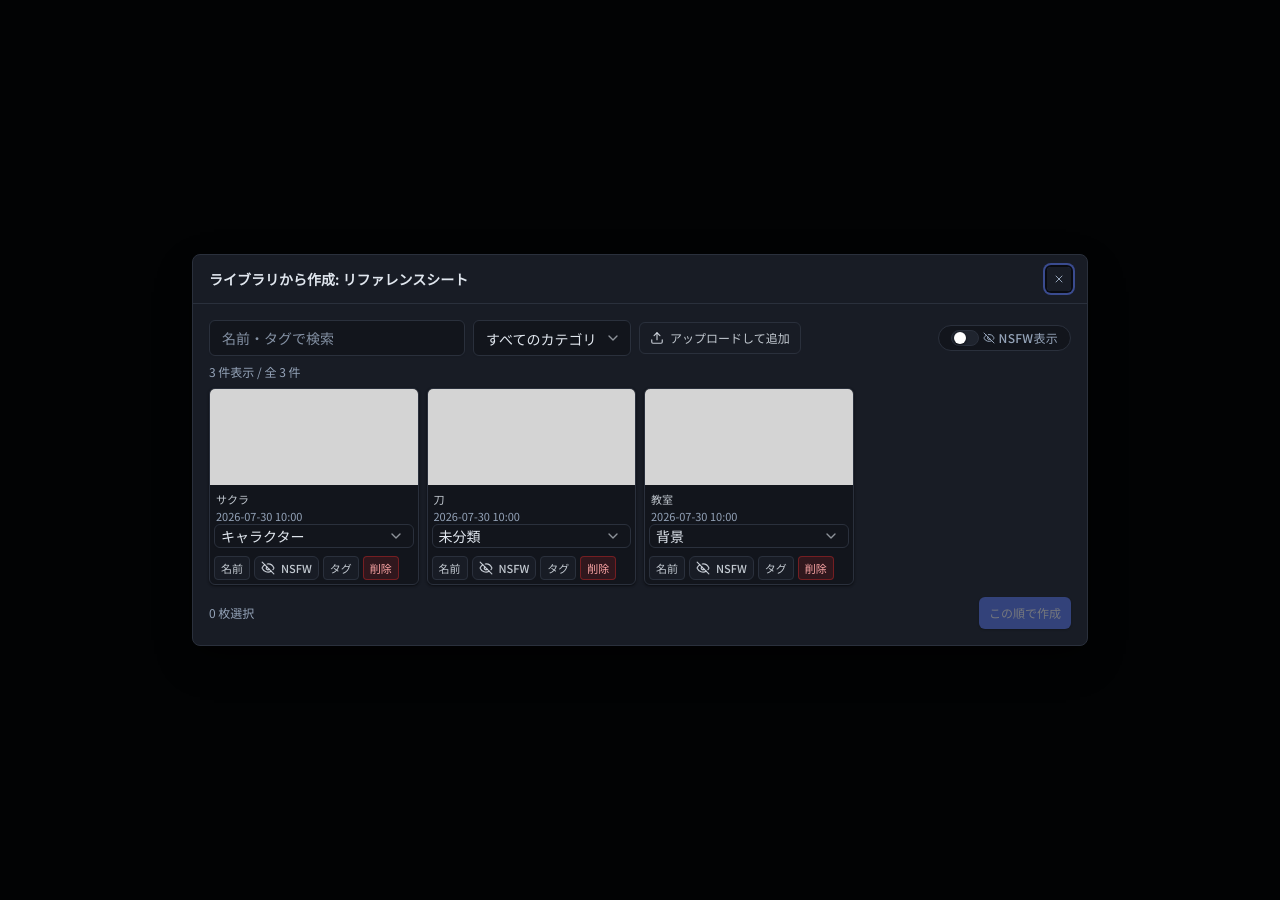
Test case: SheetBuilderModal › 失敗したらそのまま出して、選択は残す
Click the text "サクラ": (232, 499) [216,491,249,507]
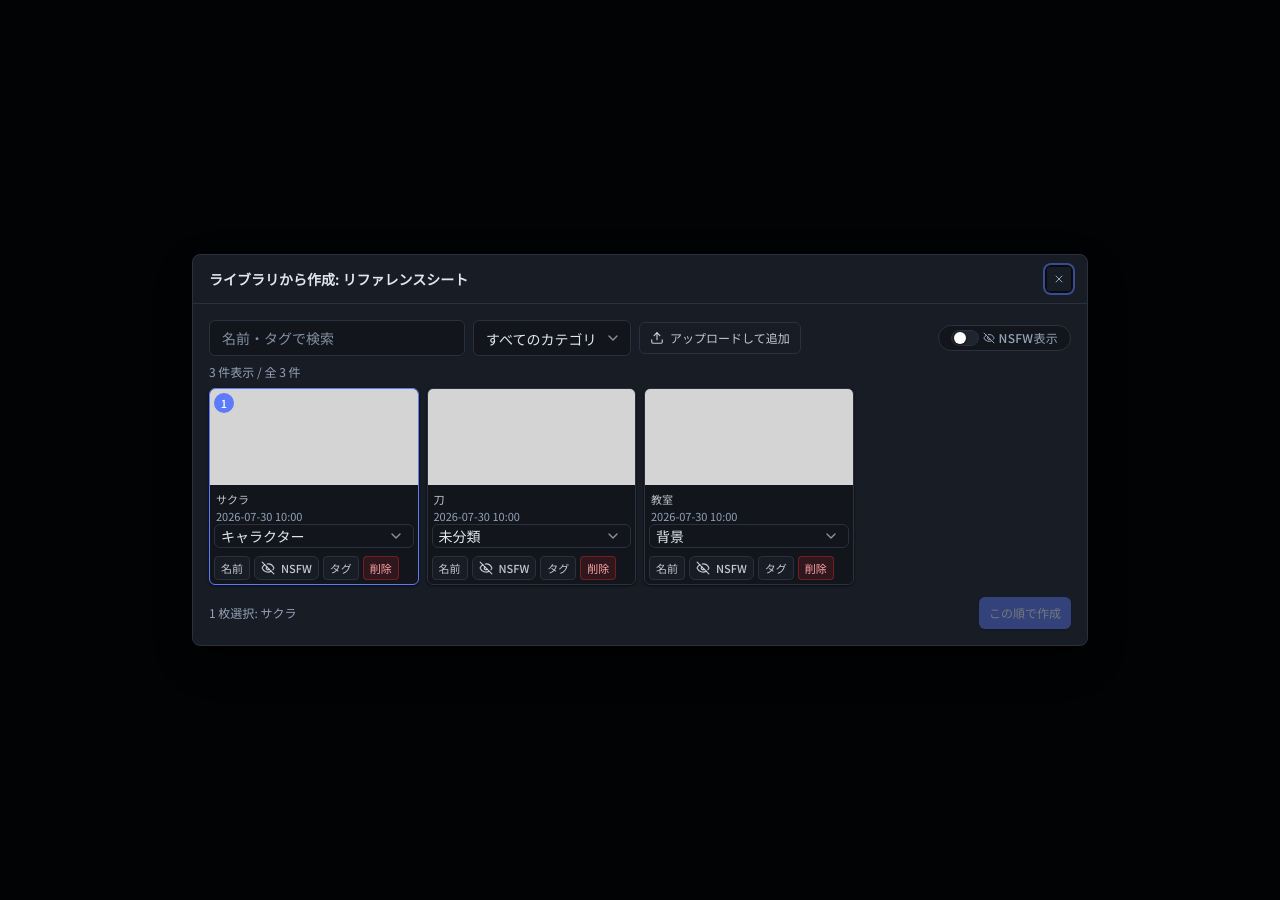
Click the text "刀": (439, 499) [434,491,444,507]
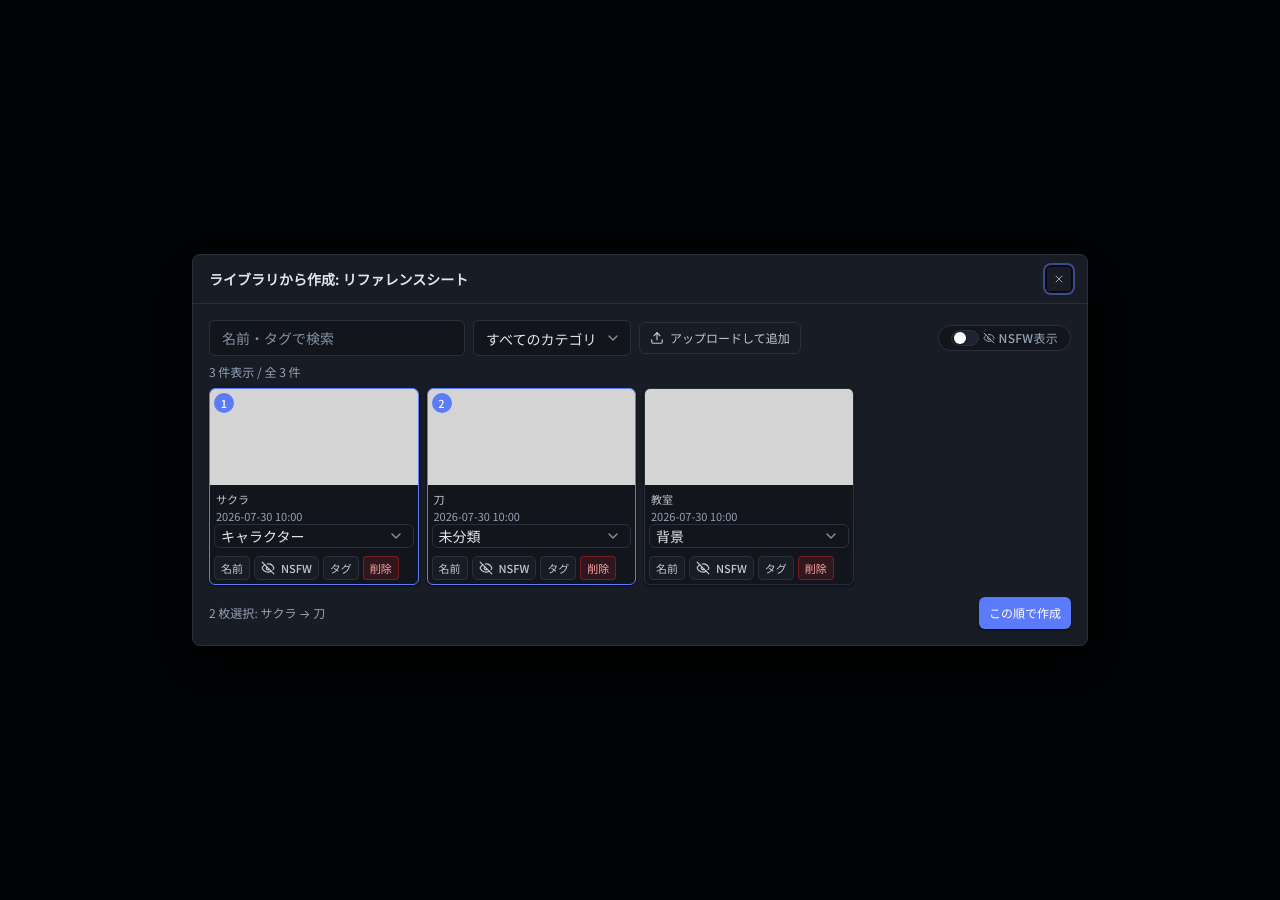
Click the button "この順で作成": (1025, 613) [979,597,1071,629]
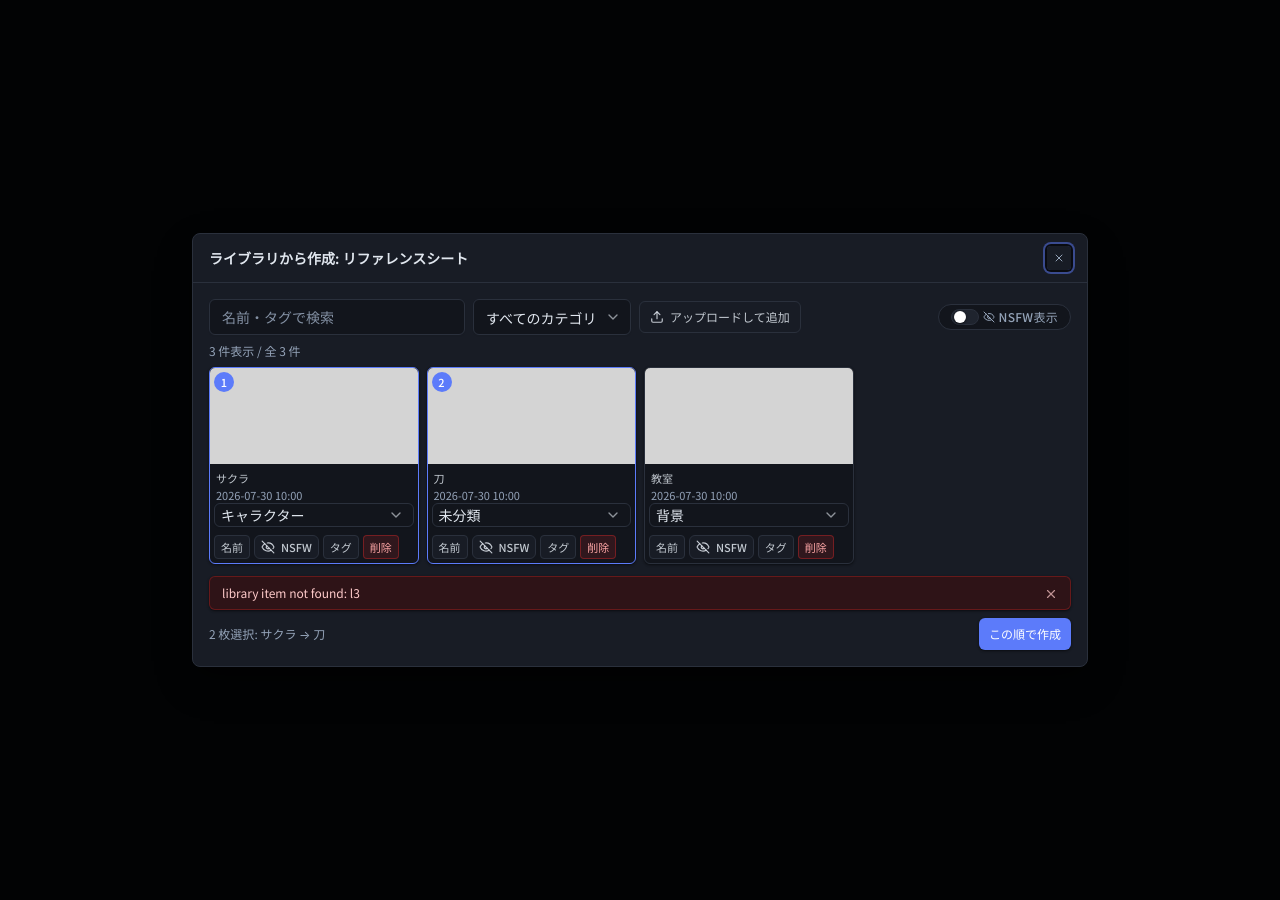
Expected: the text "2 枚選択: サクラ → 刀" is shown, [209,626,325,642]
Expected: the button "この順で作成" is enabled, [979,618,1071,650]
Expected: the text "library item not found: l3" is shown, [222,584,360,601]
